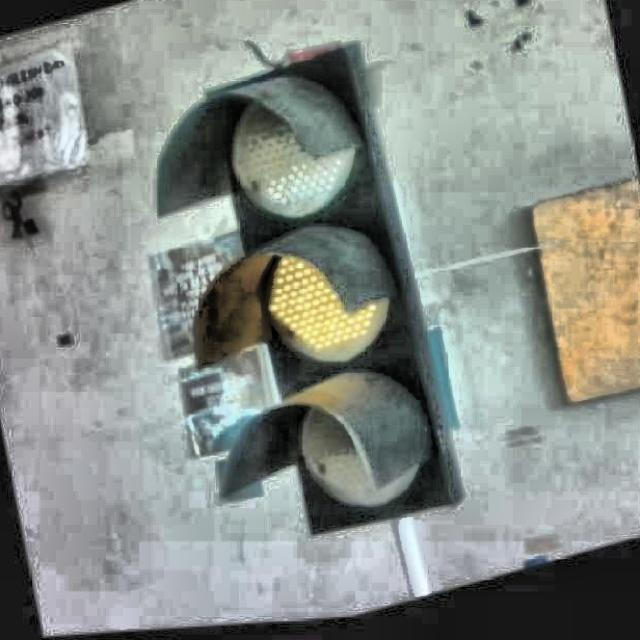yellow: (215, 67, 465, 511)
